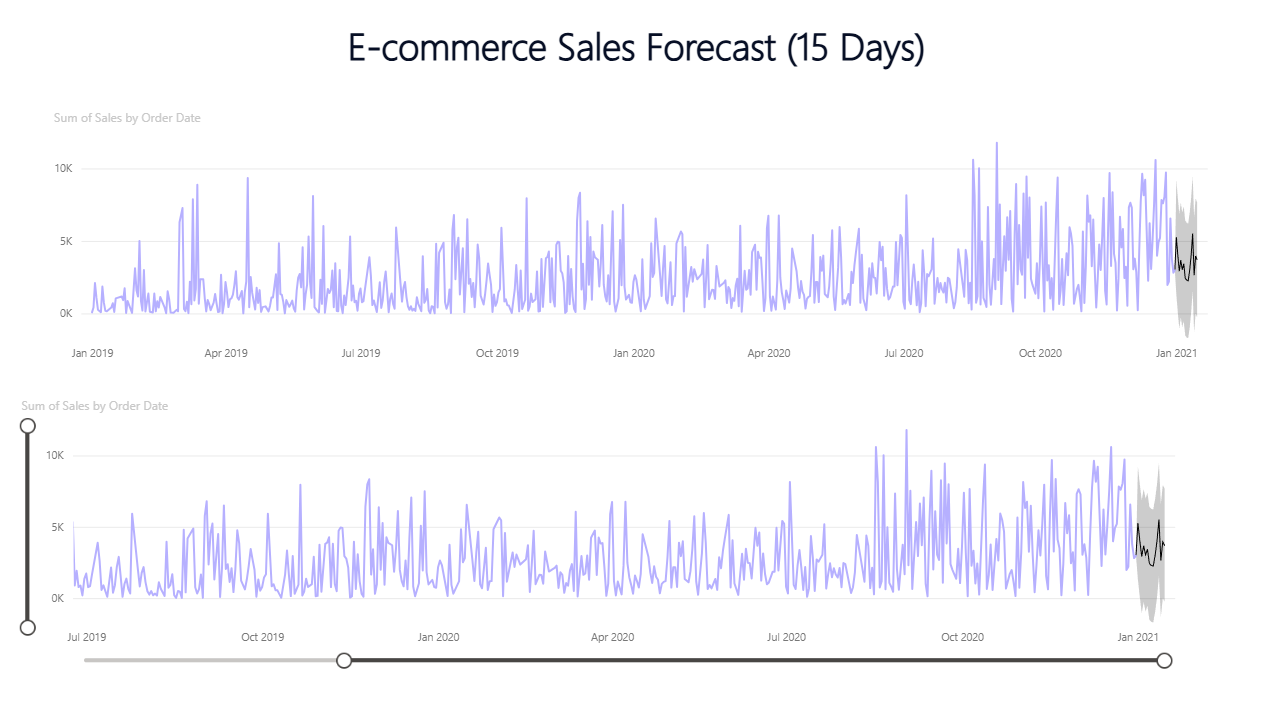

This screenshot's page, from the dashboard's own definition file:
{"tool":"powerbi","page":{"name":"Sales Forecast","canvas":[1280,720],"ordinal":1},"visuals":[{"type":"lineChart","fields":{"Y":["Sum(SuperStore_Sales_Dataset (2).Sales)"],"Category":["SuperStore_Sales_Dataset (2).Order Date"]},"box":[55,117.5,1168.8,260],"z":0},{"type":"lineChart","fields":{"Y":["Sum(SuperStore_Sales_Dataset (2).Sales)"],"Category":["SuperStore_Sales_Dataset (2).Order Date"]},"box":[22.5,403.5,1168.8,272.8],"z":1000},{"type":"textbox","box":[327.5,22.5,625,95],"z":2000}]}

Visuals, with their boxes in screenshot pixels (x1, y1, x2, y2), scaled from the page's 1280x720 canvas onto the 1281x709 screenshot:
lineChart - Sum(SuperStore_Sales_Dataset (2).Sales) x SuperStore_Sales_Dataset (2).Order Date: 55,116,1225,372
lineChart - Sum(SuperStore_Sales_Dataset (2).Sales) x SuperStore_Sales_Dataset (2).Order Date: 23,397,1192,666
textbox: 328,22,953,116
